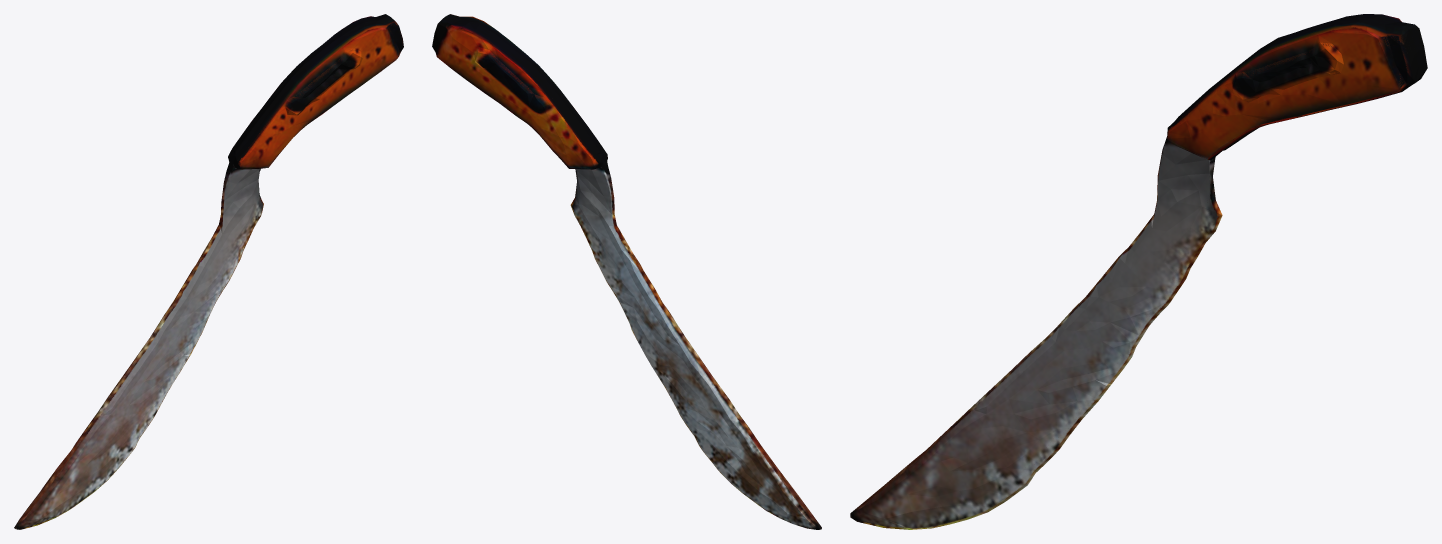
Rendered from machete.glb.
3 renders of one model, left to right at view 1: azimuth 30°, elevation 25°; view 2: azimuth 150°, elevation 25°; view 3: azimuth 330°, elevation 25°, orthographic. The views are drawn at different scales.
Visible parts, largest first — view 1: temp_mesh.ply; view 2: temp_mesh.ply; view 3: temp_mesh.ply.
Part boxes in pixels (x1=…): temp_mesh.ply: x1=14, y1=14, x2=403, y2=529; temp_mesh.ply: x1=432, y1=14, x2=821, y2=529; temp_mesh.ply: x1=850, y1=14, x2=1427, y2=529.
Size of the model in its own units: 1.87 by 1.97 by 0.156.
1 material, 1 textured.
